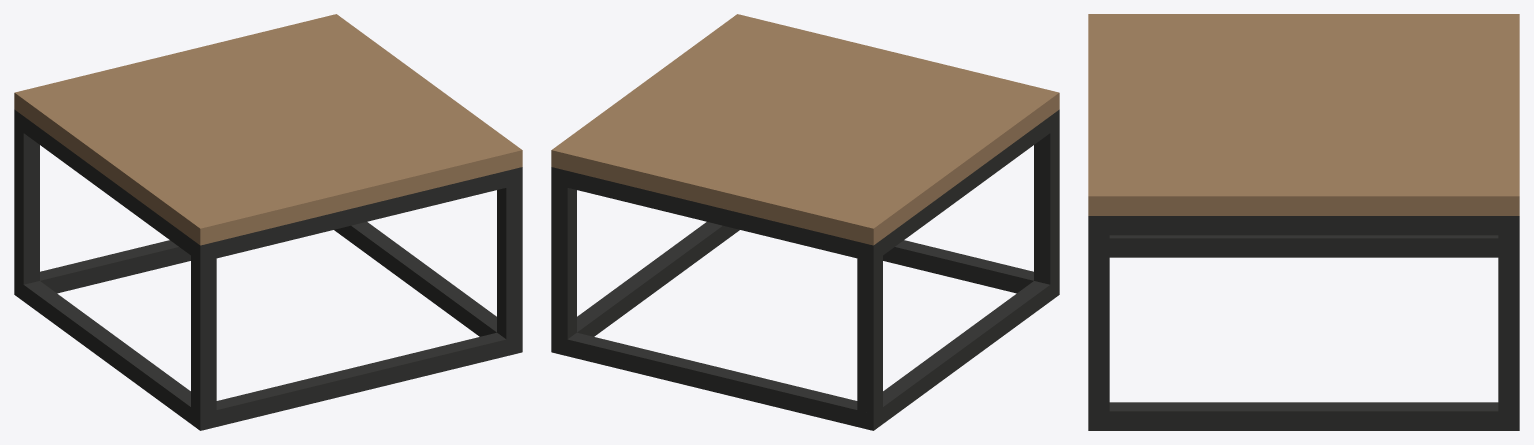
The model's file is Akademik_stolik 2.fbx.
3 views of the same model, side by side, from view 1: azimuth 30°, elevation 25°; view 2: azimuth 150°, elevation 25°; view 3: azimuth 270°, elevation 25° (orthographic). The views are drawn at different scales.
Visible parts, largest first — view 1: Group1; view 2: Group1; view 3: Group1.
Part boxes in pixels (x1,y1,x2,y2): Group1: [14, 14, 522, 430]; Group1: [551, 14, 1059, 430]; Group1: [1088, 14, 1519, 430].
Size of the model in its own units: 0.6 by 0.36 by 0.6.
